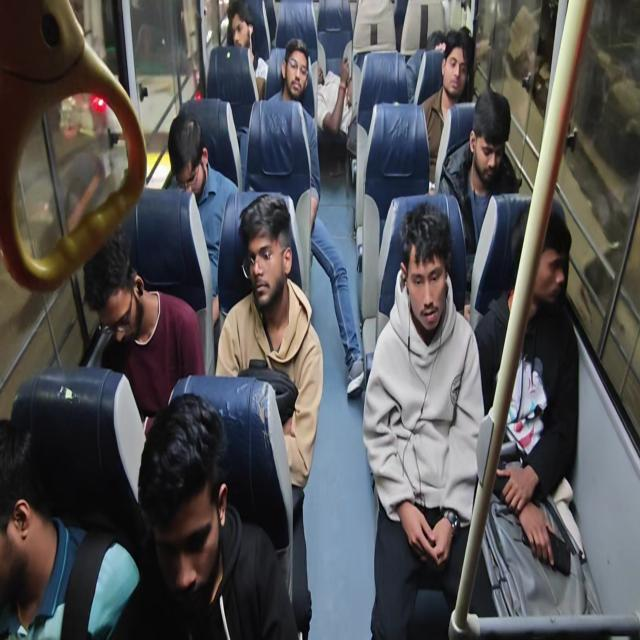person: (362, 200, 485, 638), (214, 193, 324, 637), (474, 202, 588, 618), (113, 391, 300, 639), (266, 38, 365, 397), (0, 417, 141, 639), (82, 230, 206, 438), (438, 88, 522, 318), (167, 112, 239, 322), (419, 28, 474, 192), (504, 5, 550, 116), (226, 0, 268, 101), (316, 56, 352, 138)
